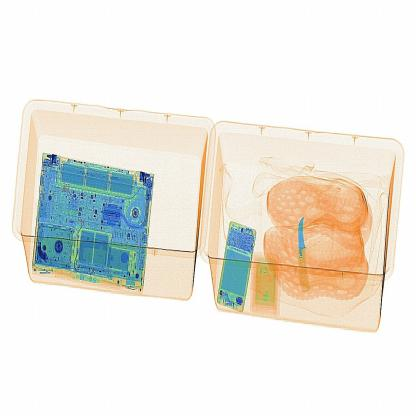wrench: (290, 210, 316, 298)
